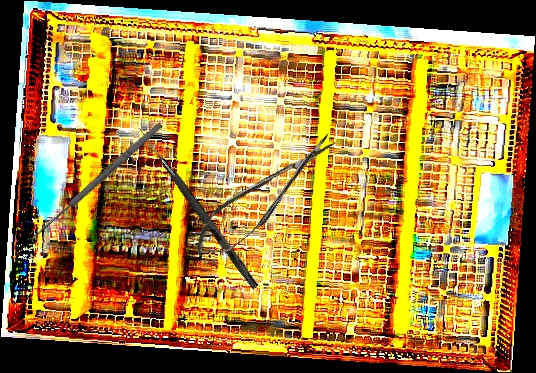Hook Surgical: (134, 126, 261, 290), (27, 119, 169, 250)
Micro Scissor: (183, 125, 348, 268)
